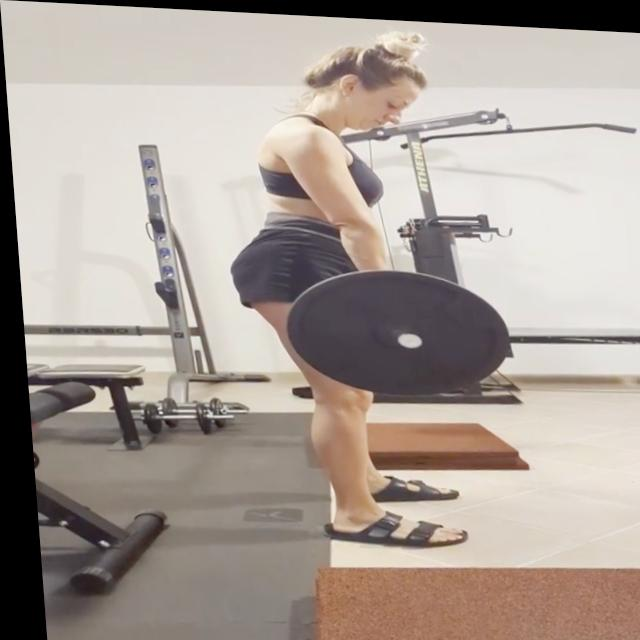barbell: (278, 261, 513, 398)
